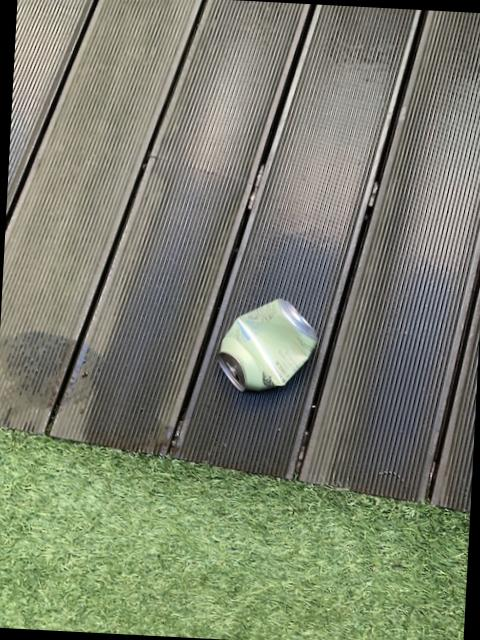metal: (216, 298, 315, 390)
